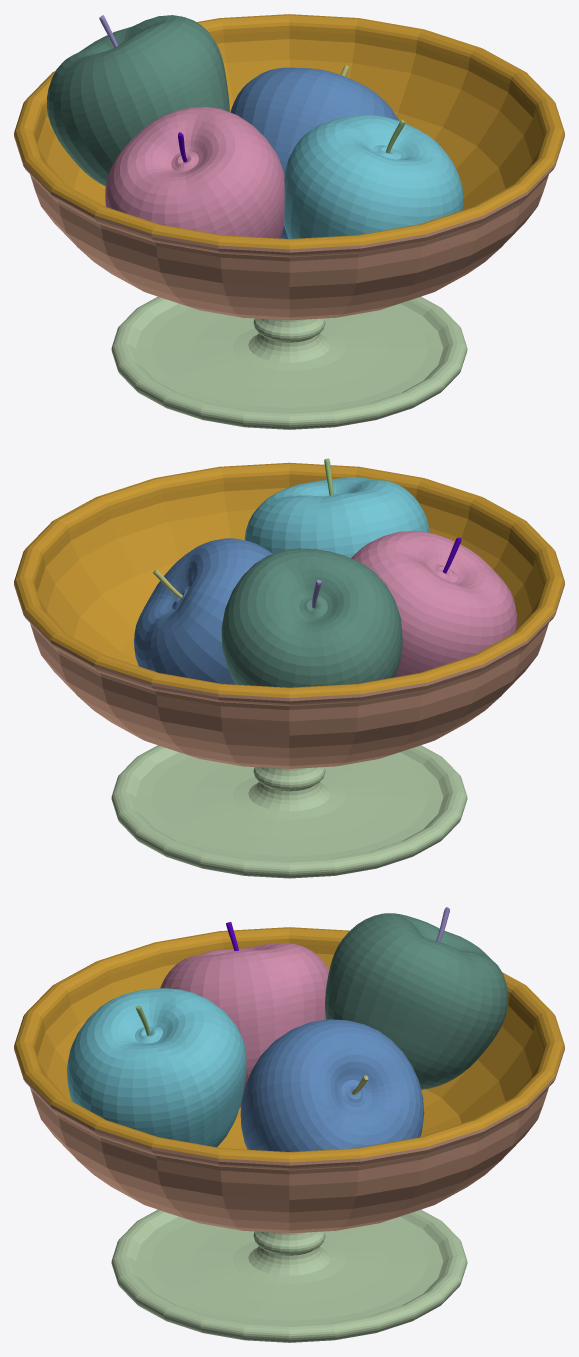
3 renders of one model, top to bottom at view 1: azimuth 30°, elevation 25°; view 2: azimuth 150°, elevation 25°; view 3: azimuth 270°, elevation 25°, orthographic.
Visible parts, largest first — view 1: world; view 2: world; view 3: world.
Boxes of the visible parts, box(x1,y1,x2,y2) form: world: box(14, 14, 564, 429); world: box(14, 458, 564, 878); world: box(14, 907, 564, 1342).
Bounding box in the file's own units: 2 × 1.24 × 2.
